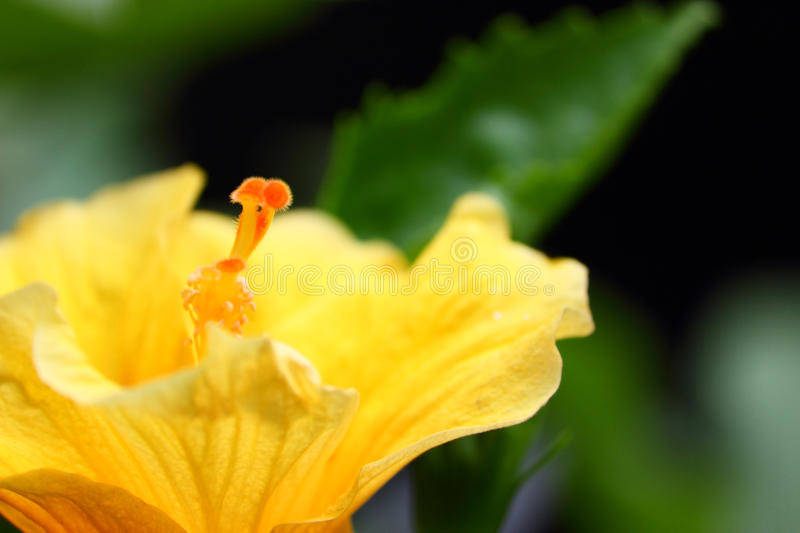Hibiscus: (1, 134, 606, 533)
